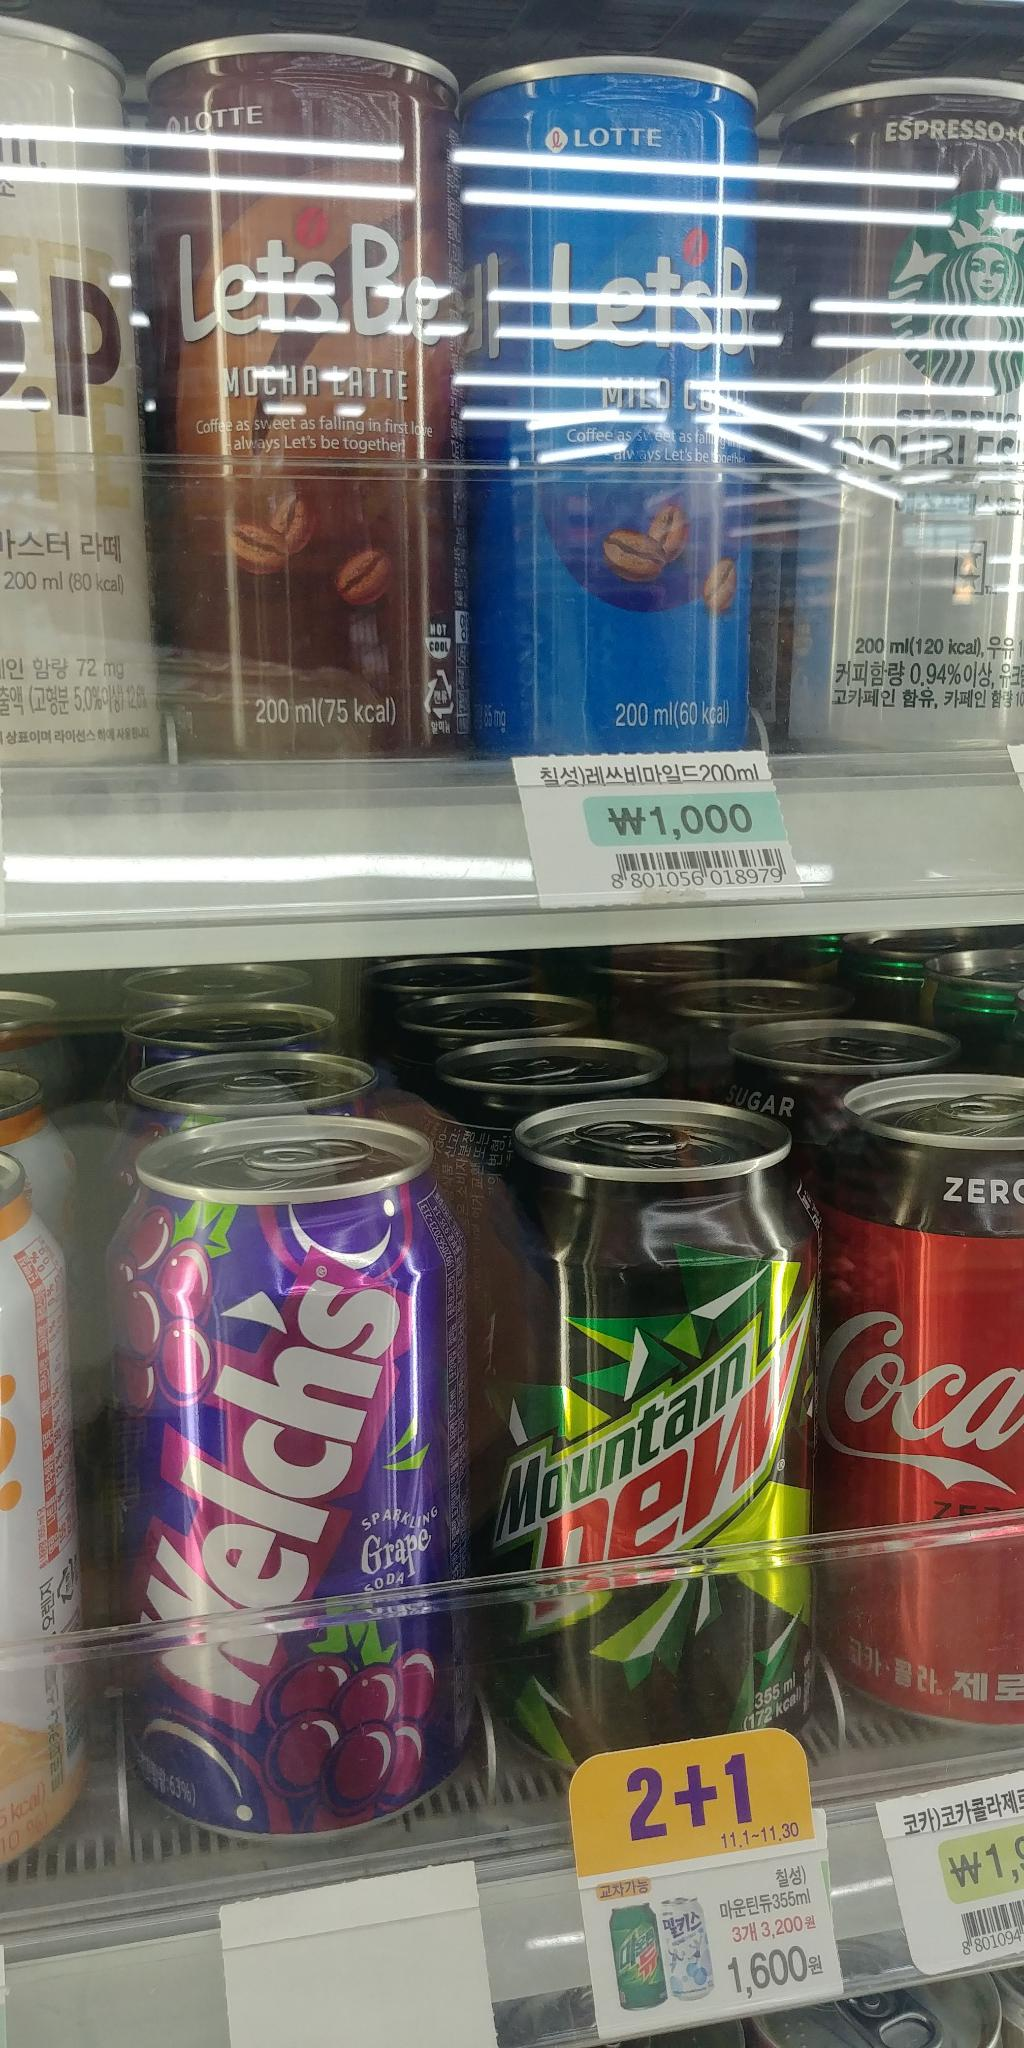letsbe: (439, 50, 765, 772)
welchs_grape: (108, 1112, 474, 1848)
